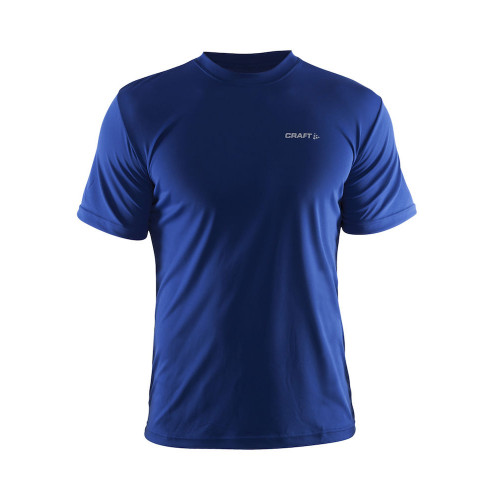T-Shirt: (70, 47, 428, 458)
